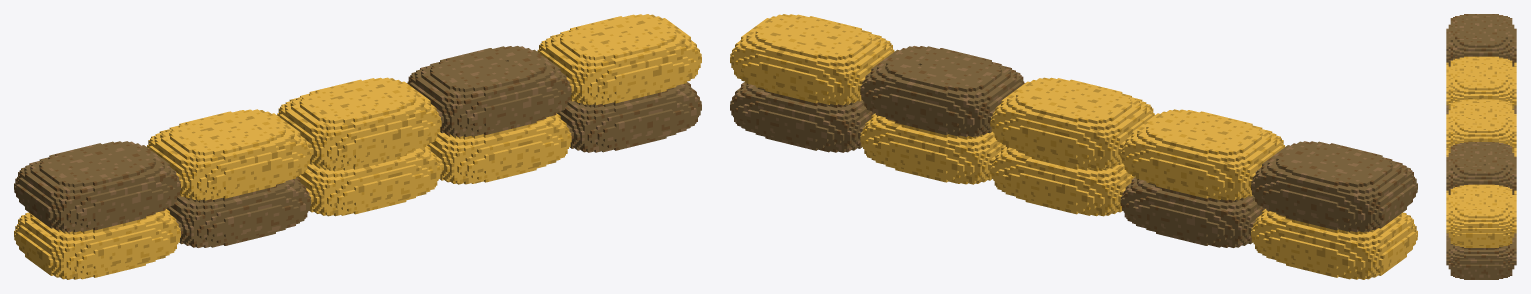
Rendered from sandbox_wall_1.obj.
The picture shows the model from 3 angles, left to right: view 1: azimuth 30°, elevation 25°; view 2: azimuth 150°, elevation 25°; view 3: azimuth 270°, elevation 25°; orthographic projection. The views are drawn at different scales.
Bounding box in the file's own units: 23 × 3.2 × 3.2.
1 material, 1 textured.
